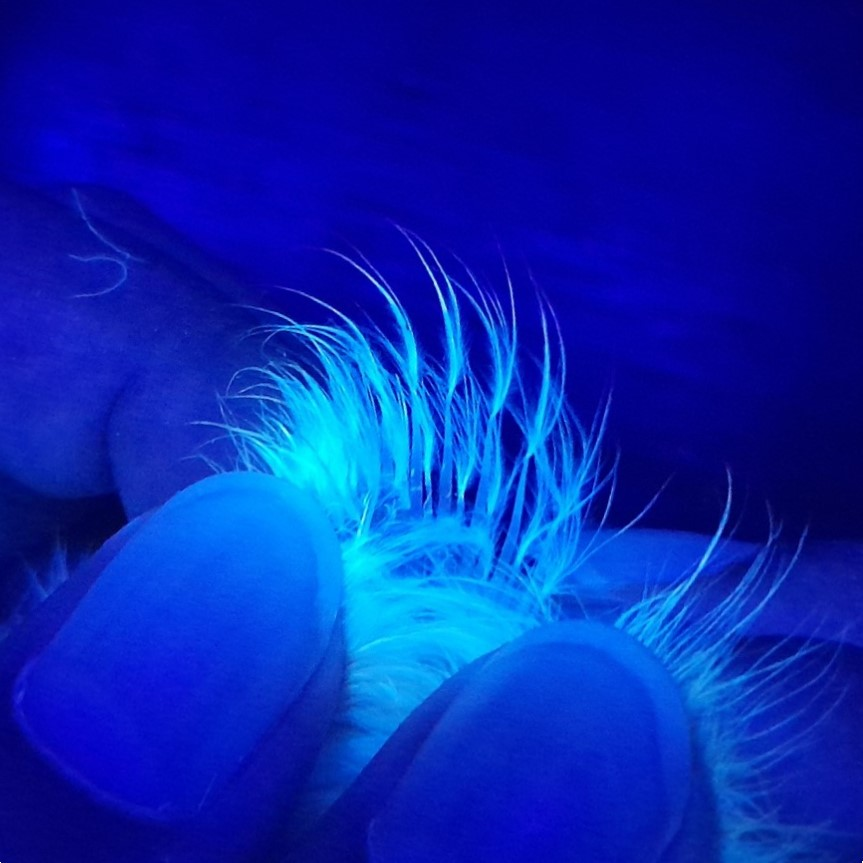male: (328, 364, 591, 633)
